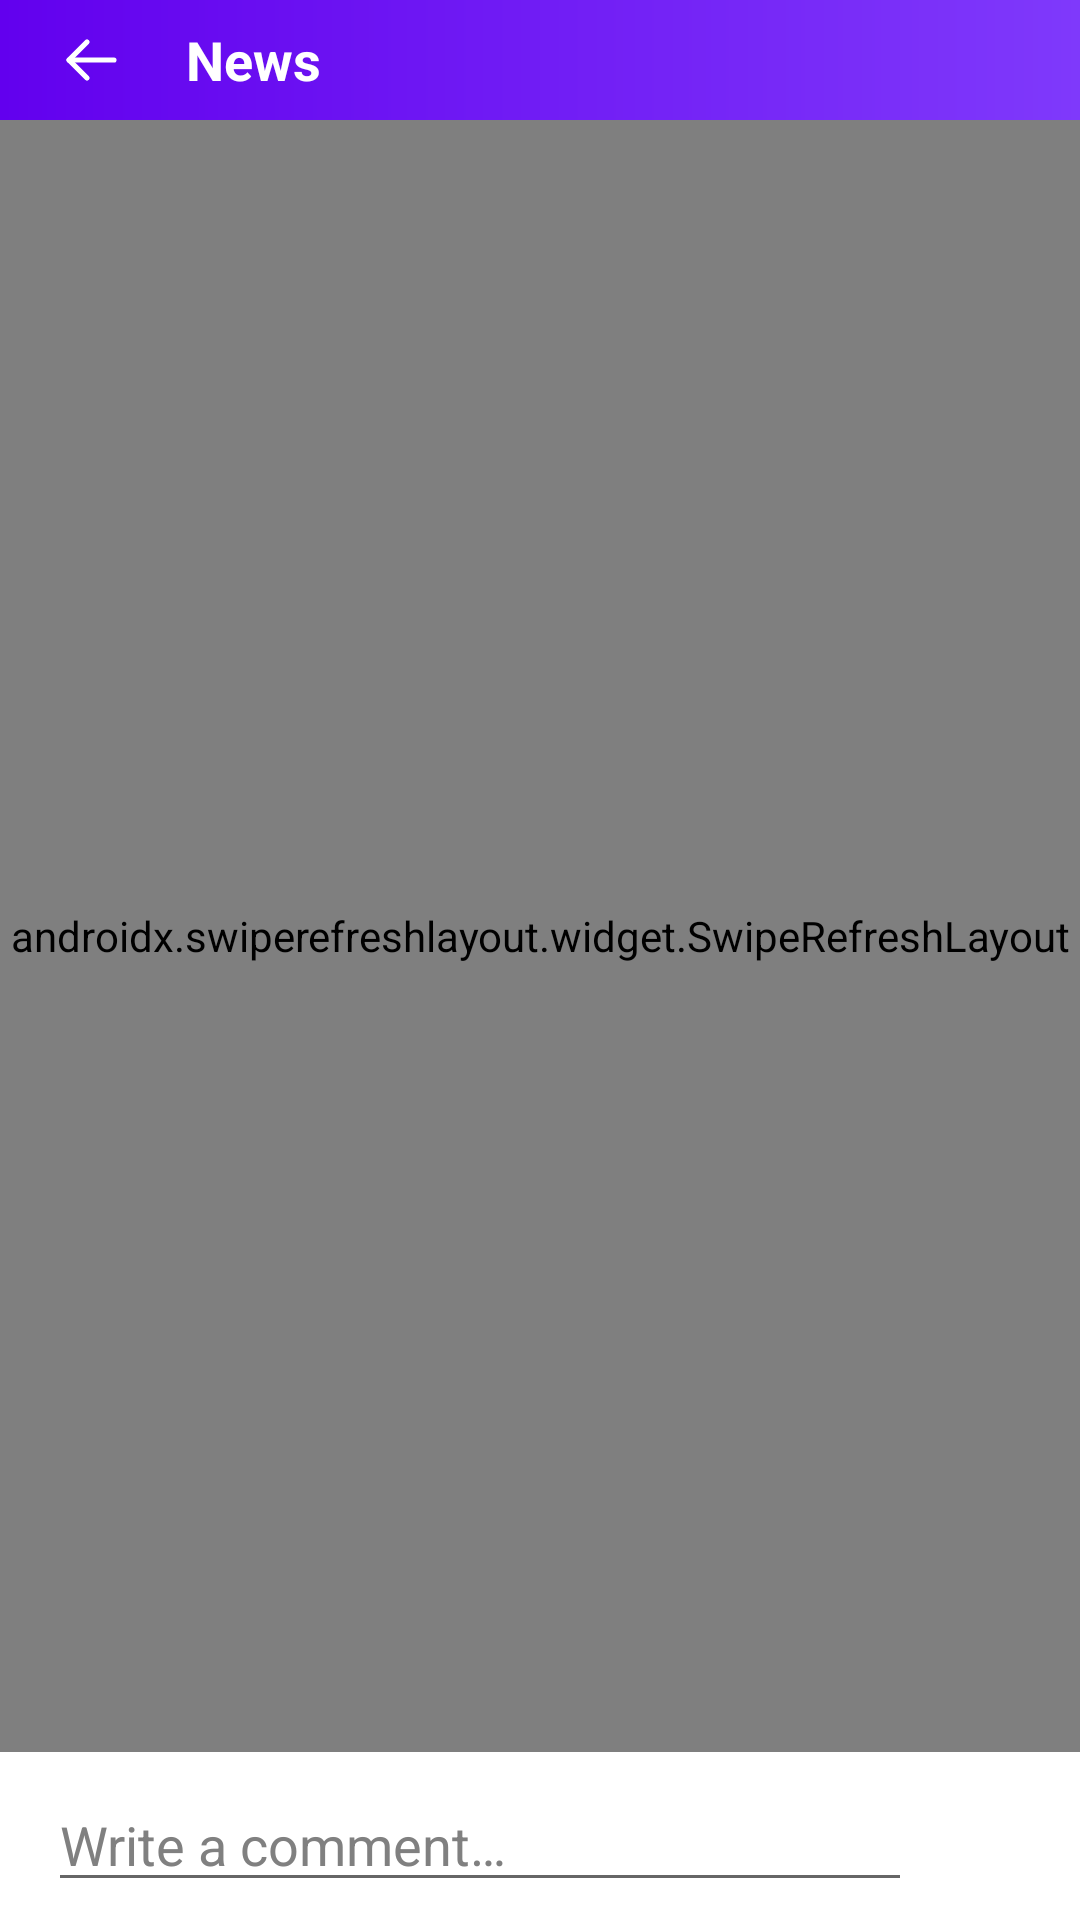

Named icons in this screenshot (1080x1920) and their bounding boxes, (left=x1, top=y1, right=x2, bottom=y2):
Back: (left=66, top=39, right=117, bottom=81)
